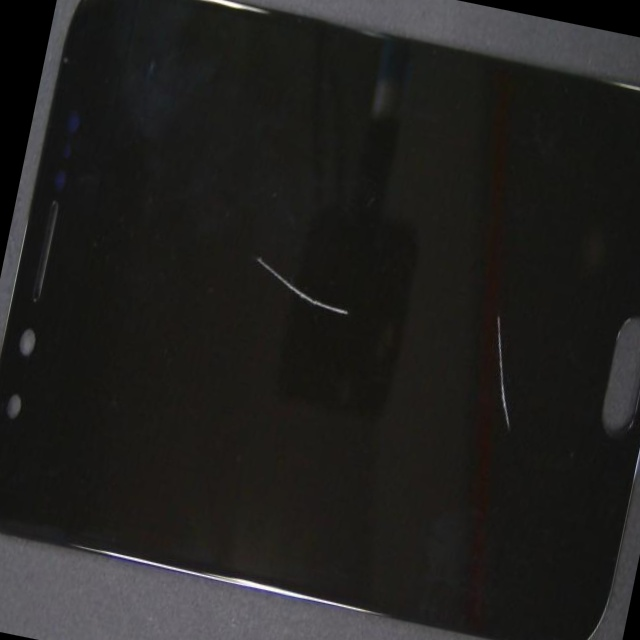scratch: (245, 235, 640, 589), (206, 151, 509, 476)
